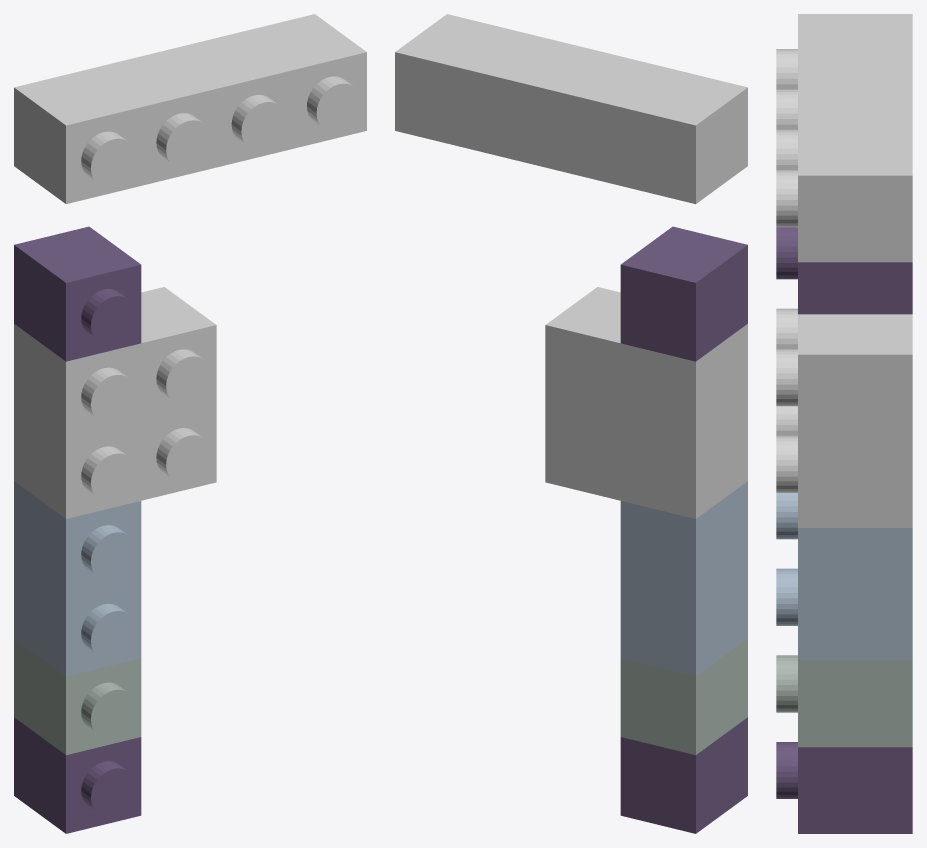
File: current.glb
3 views of the same model, side by side, from view 1: azimuth 30°, elevation 25°; view 2: azimuth 150°, elevation 25°; view 3: azimuth 270°, elevation 25° (orthographic). The views are drawn at different scales.
Parts seen in each view (by area): view 1: world; view 2: world; view 3: world.
Part boxes in pixels (x1,y1,x2,y2): world: [14, 14, 366, 833]; world: [395, 14, 747, 833]; world: [776, 14, 912, 833].
Size of the model in its own units: 32 by 72 by 11.4.
